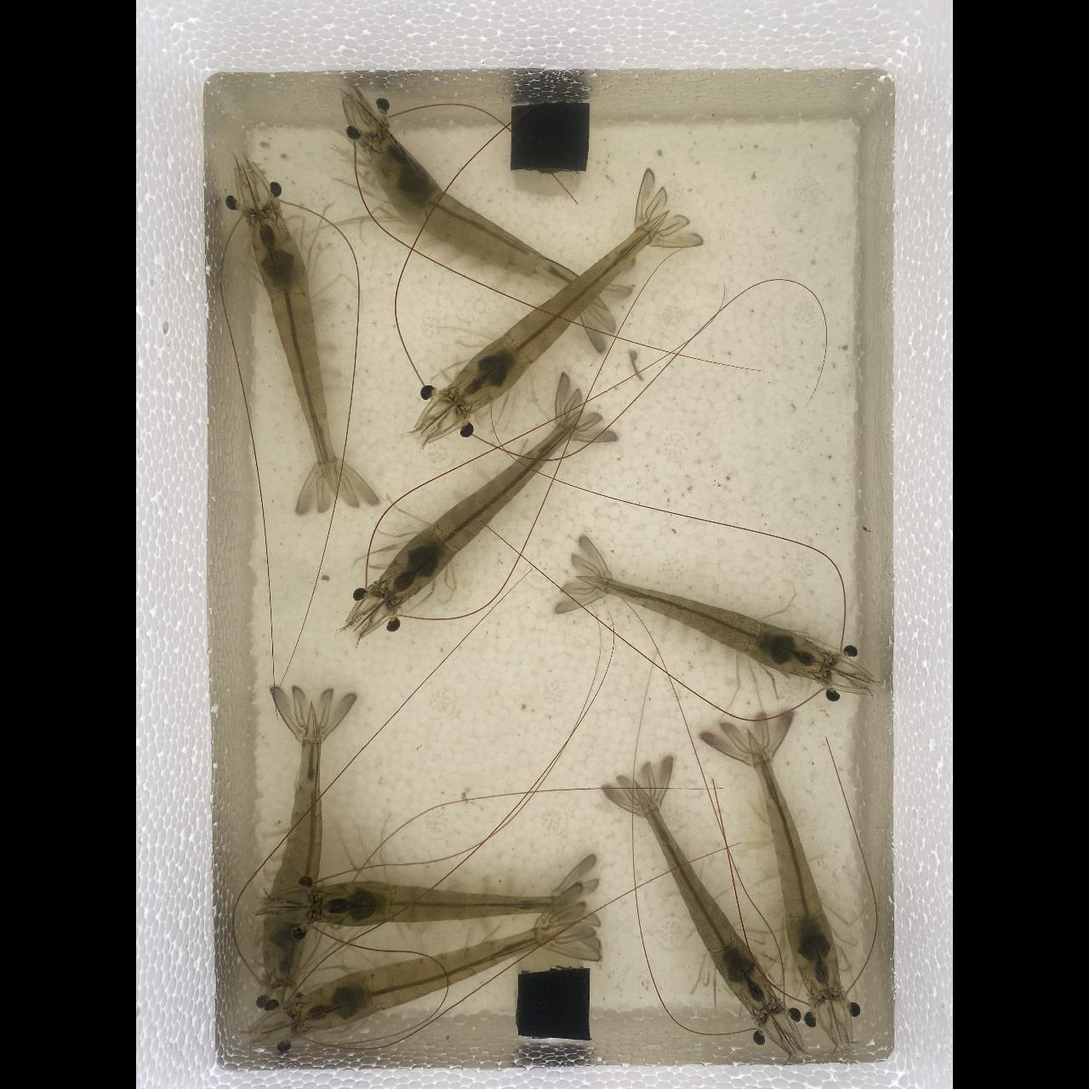box: (510, 100, 589, 172), (516, 968, 590, 1040)
top_shrimp: (446, 209, 665, 407), (379, 412, 577, 604), (366, 131, 590, 293), (636, 784, 779, 1014), (291, 926, 556, 1031), (587, 572, 827, 679), (252, 208, 337, 495), (752, 735, 841, 997), (262, 715, 320, 982), (291, 880, 577, 924)
